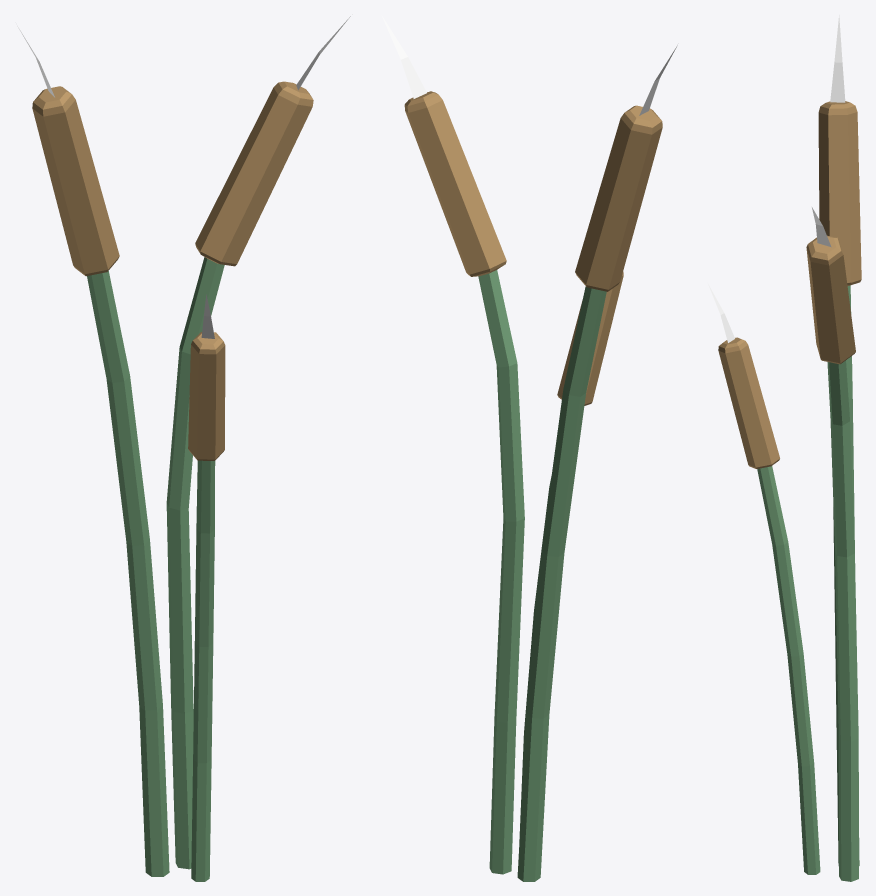
The model's file is Reeds(1).fbx.
3 renders of one model, left to right at view 1: azimuth 30°, elevation 25°; view 2: azimuth 150°, elevation 25°; view 3: azimuth 270°, elevation 25°, orthographic. The views are drawn at different scales.
Visible parts, largest first — view 1: Reeds(1); view 2: Reeds(1); view 3: Reeds(1).
Boxes of the visible parts, x1,y1,x2,y2 form: Reeds(1): [17, 16, 350, 881]; Reeds(1): [381, 15, 677, 881]; Reeds(1): [708, 15, 861, 881].
Size of the model in its own units: 0.7024 by 1.86 by 0.3298.
